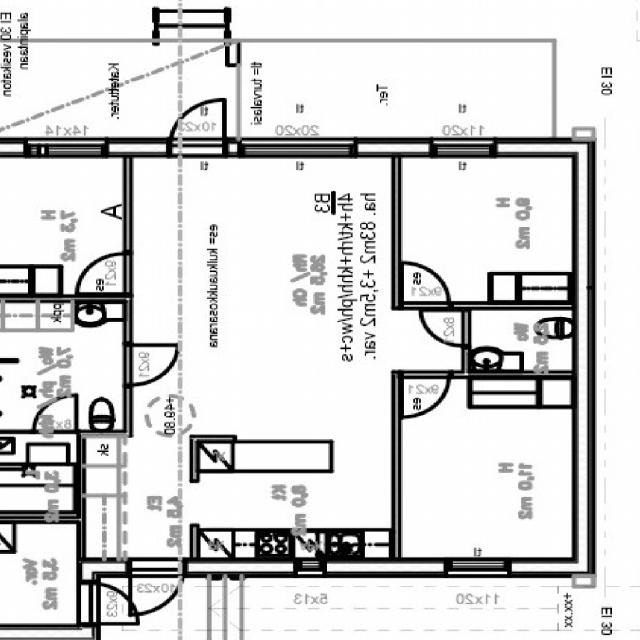door: (130, 558, 186, 624), (171, 92, 225, 157), (77, 583, 146, 623), (124, 345, 181, 386), (403, 262, 450, 309), (77, 254, 132, 294), (404, 372, 449, 418), (34, 396, 76, 435), (423, 312, 471, 346)
